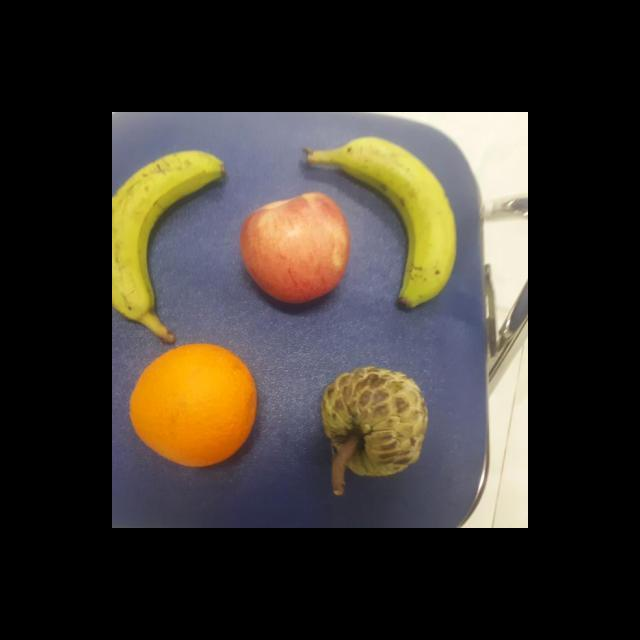Sakya fruit: (321, 366, 428, 476)
apple: (240, 190, 348, 302)
banana: (302, 135, 456, 307), (112, 150, 225, 344)
orange: (128, 344, 256, 468)
